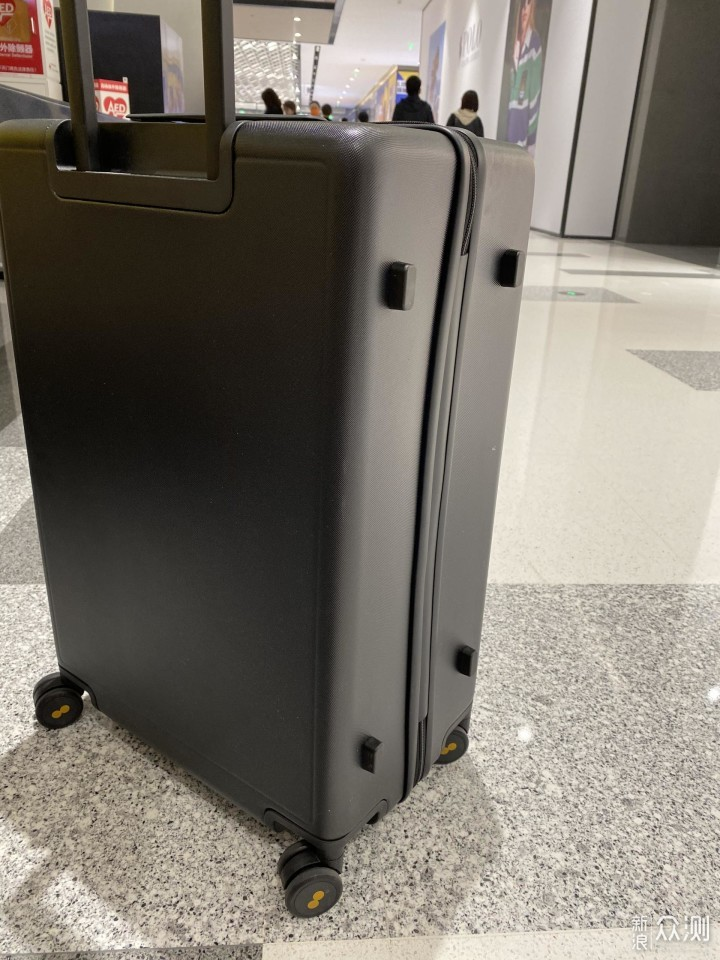box: (1, 124, 536, 845)
handle: (125, 112, 326, 122)
wheel: (278, 839, 343, 918), (32, 672, 84, 730), (432, 723, 470, 765)
